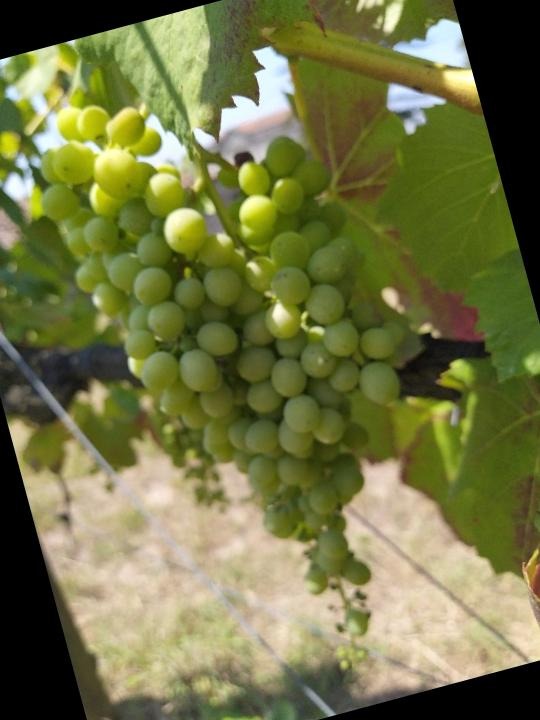grape: (17, 37, 486, 719)
